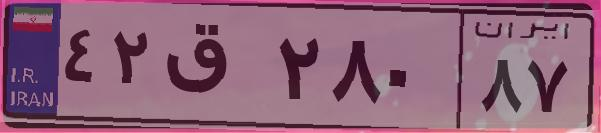0: (385, 28, 445, 110)
2: (270, 28, 330, 110), (110, 28, 158, 98)
4: (57, 26, 110, 100)
7: (525, 38, 570, 115)
8: (330, 28, 385, 110), (475, 38, 525, 113)
ق: (158, 20, 270, 120)
